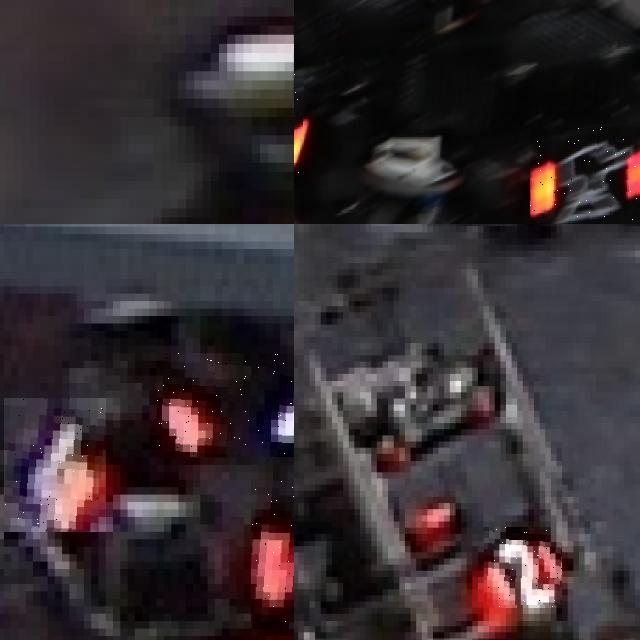R2: (484, 528, 562, 608)
R4: (156, 353, 294, 457), (4, 398, 106, 532), (251, 479, 294, 628)
Rs: (530, 127, 640, 224)
